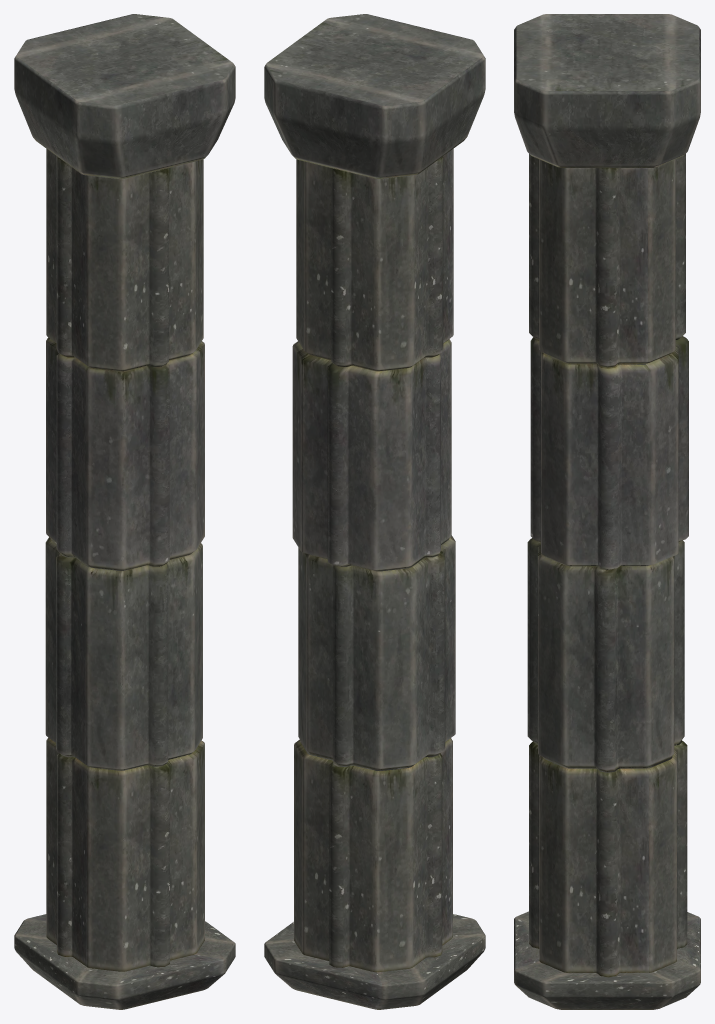
The picture shows the model from 3 angles, left to right: view 1: azimuth 30°, elevation 25°; view 2: azimuth 150°, elevation 25°; view 3: azimuth 270°, elevation 25°; orthographic projection.
Visible parts, largest first — view 1: SM_SaradominTemple_Pillar_1x8_02_v1_LOD0; view 2: SM_SaradominTemple_Pillar_1x8_02_v1_LOD0; view 3: SM_SaradominTemple_Pillar_1x8_02_v1_LOD0.
Boxes of the visible parts, left/top/right/bottom form: SM_SaradominTemple_Pillar_1x8_02_v1_LOD0: left=14, top=14, right=235, bottom=1009; SM_SaradominTemple_Pillar_1x8_02_v1_LOD0: left=264, top=14, right=485, bottom=1009; SM_SaradominTemple_Pillar_1x8_02_v1_LOD0: left=514, top=14, right=700, bottom=1009.
Size of the model in its own units: 1.47 by 8.01 by 1.47.
Materials: 1 (1 with a texture image).
